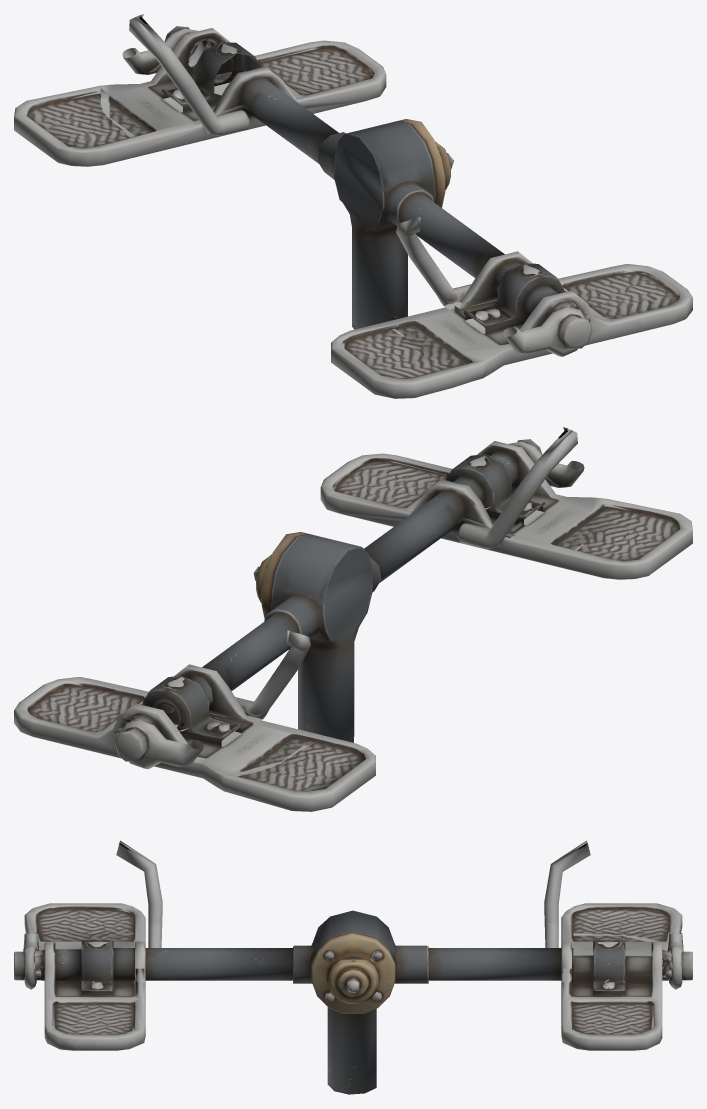
The model's file is pedals_remesh.glb.
3 views of the same model, one above another, from view 1: azimuth 30°, elevation 25°; view 2: azimuth 150°, elevation 25°; view 3: azimuth 270°, elevation 25° (orthographic). The views are drawn at different scales.
Visible parts, largest first — view 1: tripo_node_a41750db-d9ce-403a-884e-e7284; view 2: tripo_node_a41750db-d9ce-403a-884e-e7284; view 3: tripo_node_a41750db-d9ce-403a-884e-e7284.
Boxes of the visible parts, left/top/right/bottom form: tripo_node_a41750db-d9ce-403a-884e-e7284: left=14, top=14, right=692, bottom=398; tripo_node_a41750db-d9ce-403a-884e-e7284: left=14, top=427, right=692, bottom=811; tripo_node_a41750db-d9ce-403a-884e-e7284: left=14, top=840, right=692, bottom=1094.
Size of the model in its own units: 0.4736 by 0.3229 by 1.
Materials: 1 (1 with a texture image).
